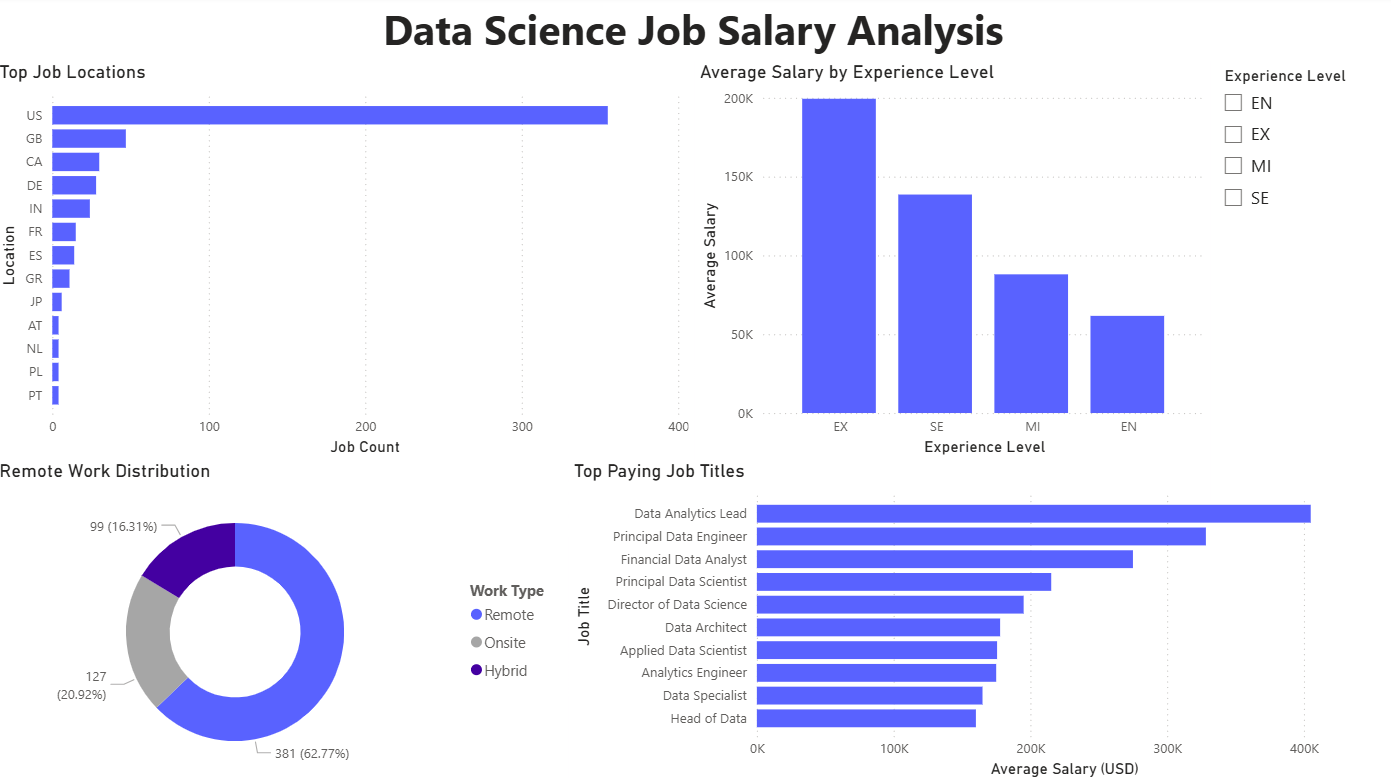

This screenshot's page, from the dashboard's own definition file:
{"tool":"powerbi","page":{"name":"Page 1","canvas":[1280,720],"ordinal":0},"visuals":[{"type":"clusteredBarChart","title":"Top Paying Job Titles","fields":{"Category":["ds_salaries.job_title"],"Y":["ds_salaries.Average Salary"]},"box":[525.4,425.2,754,294.8],"z":0},{"type":"clusteredColumnChart","title":"Average Salary by Experience Level","fields":{"Y":["ds_salaries.Average Salary"],"Category":["ds_salaries.experience_level"]},"box":[640.6,60.5,472.4,364.7],"z":1000},{"type":"clusteredBarChart","title":"Top Job Locations","fields":{"Category":["ds_salaries.company_location"],"Y":["ds_salaries.Job Count"]},"box":[0,60.5,640.6,364.7],"z":2000},{"type":"donutChart","title":"Remote Work Distribution","fields":{"Category":["ds_salaries.Work Type"],"Y":["ds_salaries.Job Count"]},"box":[0,425.2,525.4,294.8],"z":3000},{"type":"slicer","fields":{"Values":["ds_salaries.experience_level"]},"box":[1113.1,60.5,166.3,402.5],"z":4000},{"type":"textbox","box":[0,0,1279.4,60.5],"z":5000}]}

Visuals, with their boxes in screenshot pixels (x1, y1, x2, y2), scaled from the page's 1280x720 canvas onto the 1391x778 screenshot:
"Top Paying Job Titles" clusteredBarChart: pyautogui.locateOnScreen(571, 459, 1390, 777)
"Average Salary by Experience Level" clusteredColumnChart: pyautogui.locateOnScreen(696, 65, 1210, 459)
"Top Job Locations" clusteredBarChart: pyautogui.locateOnScreen(0, 65, 696, 459)
"Remote Work Distribution" donutChart: pyautogui.locateOnScreen(0, 459, 571, 777)
slicer - ds_salaries.experience_level: pyautogui.locateOnScreen(1210, 65, 1390, 500)
textbox: pyautogui.locateOnScreen(0, 0, 1390, 65)
